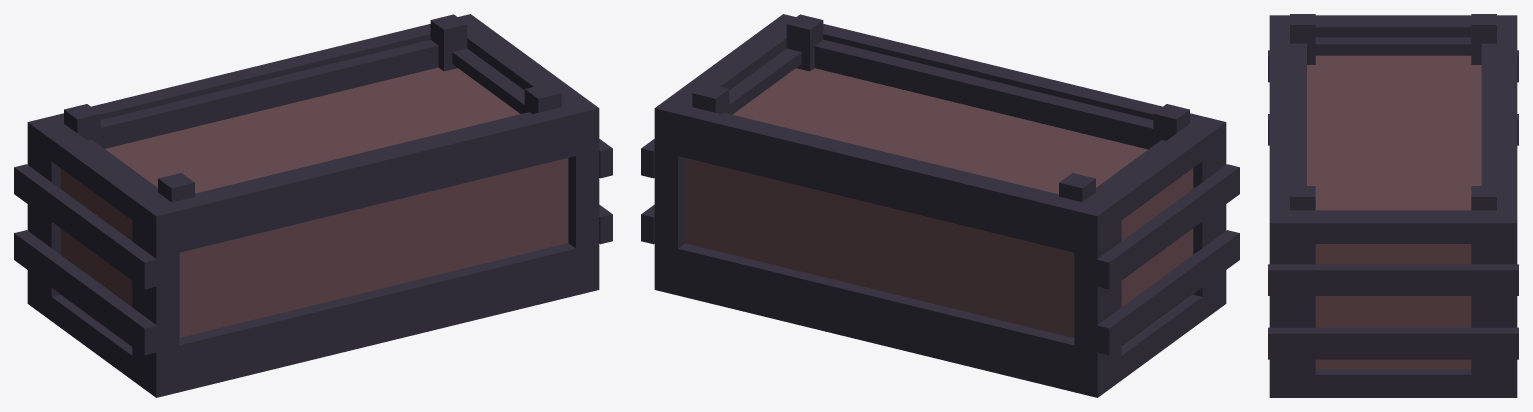
The picture shows the model from 3 angles, left to right: view 1: azimuth 30°, elevation 25°; view 2: azimuth 150°, elevation 25°; view 3: azimuth 270°, elevation 25°; orthographic projection. The views are drawn at different scales.
Visible parts, largest first — view 1: box_03; view 2: box_03; view 3: box_03.
Boxes of the visible parts, bbox=[...] form: box_03: bbox=[14, 14, 612, 397]; box_03: bbox=[641, 14, 1239, 397]; box_03: bbox=[1268, 14, 1518, 397].
Bounding box in the file's own units: 134 × 53.38 × 64.51.
